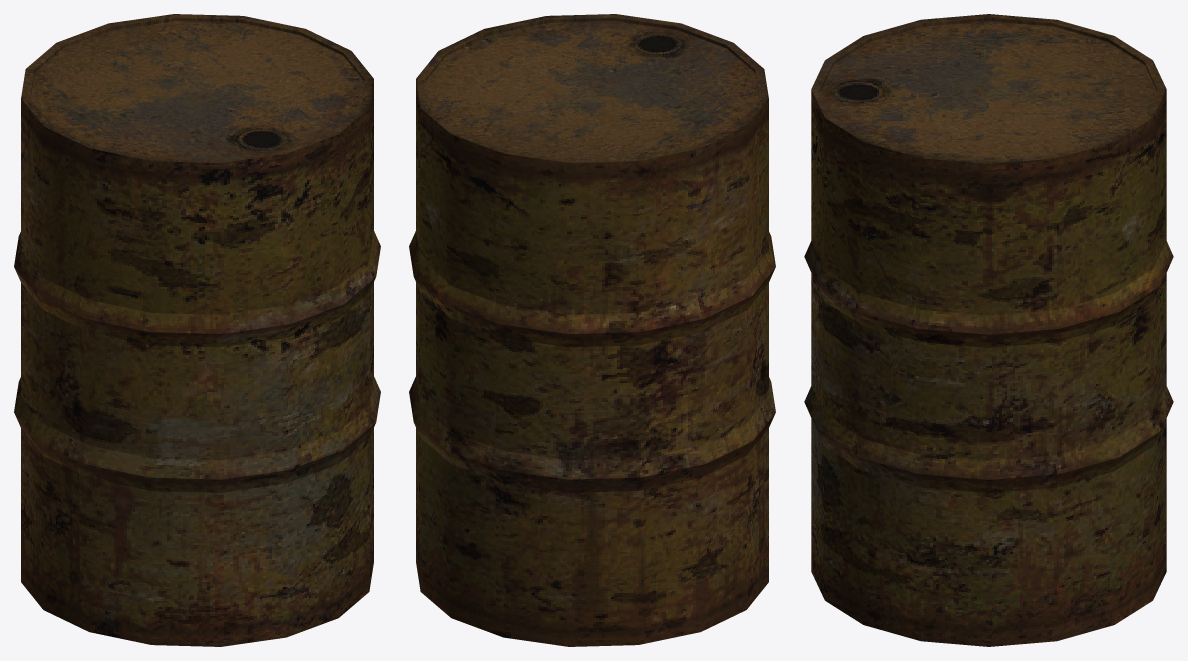
Rendered from metal_barrel_mp_1.glb.
3 views of the same model, side by side, from view 1: azimuth 30°, elevation 25°; view 2: azimuth 150°, elevation 25°; view 3: azimuth 270°, elevation 25° (orthographic).
Visible parts, largest first — view 1: metal_barrel_mp_1; view 2: metal_barrel_mp_1; view 3: metal_barrel_mp_1.
Boxes of the visible parts, x1,y1,x2,y2 form: metal_barrel_mp_1: (14,14,380,646); metal_barrel_mp_1: (409,14,775,646); metal_barrel_mp_1: (804,14,1173,646).
Size of the model in its own units: 0.7488 by 1.08 by 0.7488.
1 material, 1 textured.
